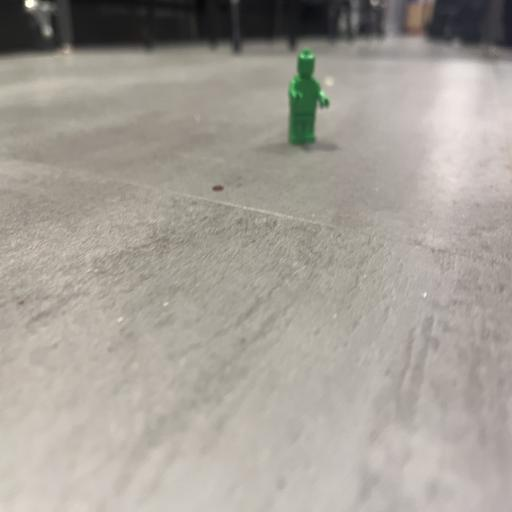Lego-Minifig: (289, 48, 329, 143)
